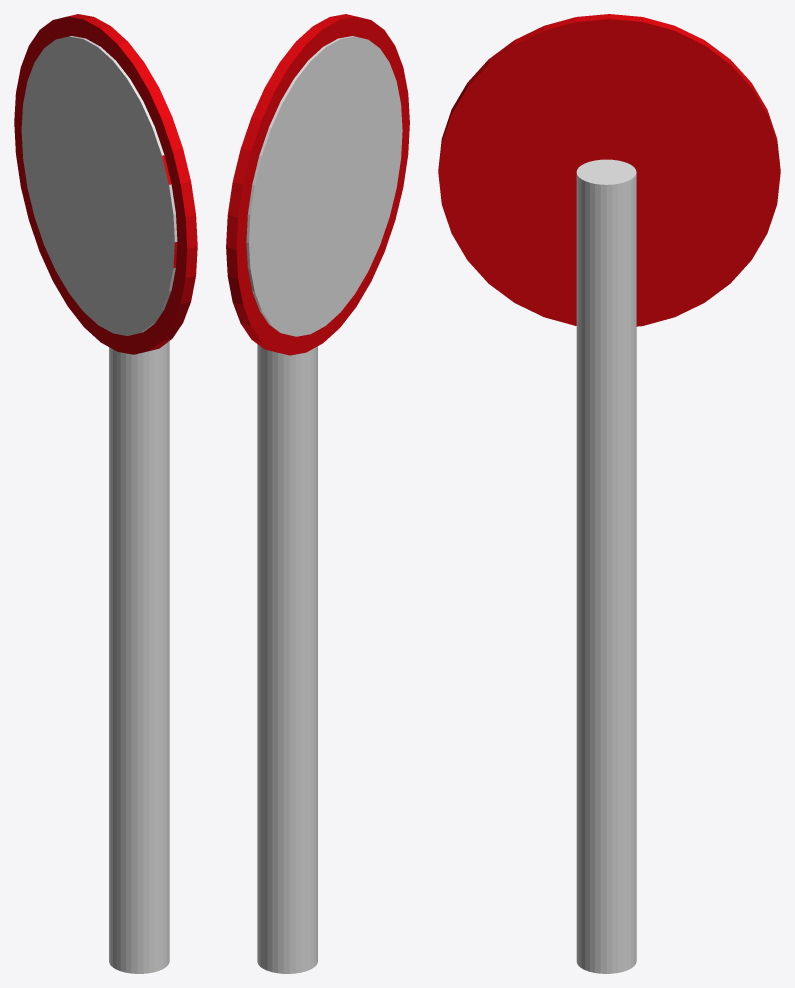
The model's file is Road Sign 5.fbx.
The picture shows the model from 3 angles, left to right: view 1: azimuth 30°, elevation 25°; view 2: azimuth 150°, elevation 25°; view 3: azimuth 270°, elevation 25°; orthographic projection.
Visible parts, largest first — view 1: Cylinder.004, Cylinder.003; view 2: Cylinder.004, Cylinder.003; view 3: Cylinder.004, Cylinder.003.
Boxes of the visible parts, x1,y1,x2,y2 form: Cylinder.004: (14, 14, 197, 354); Cylinder.003: (109, 341, 169, 973); Cylinder.004: (226, 14, 409, 355); Cylinder.003: (257, 344, 317, 973); Cylinder.004: (438, 14, 780, 326); Cylinder.003: (576, 159, 636, 973).
Size of the model in its own units: 30.15 by 412 by 137.
